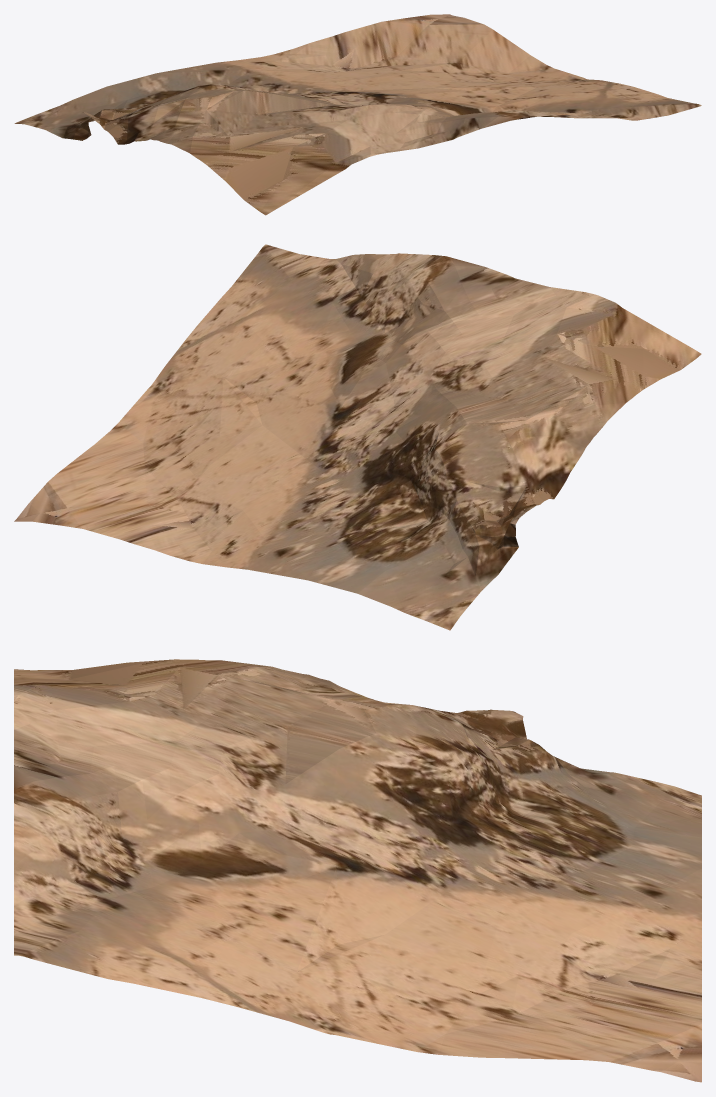
3 views of the same model, one above another, from view 1: azimuth 30°, elevation 25°; view 2: azimuth 150°, elevation 25°; view 3: azimuth 270°, elevation 25° (orthographic). The views are drawn at different scales.
Size of the model in its own units: 1.04 by 0.2922 by 1.04.
Materials: 3 (3 with a texture image).
